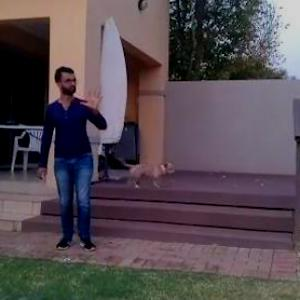follow_hand: (80, 83, 110, 116)
